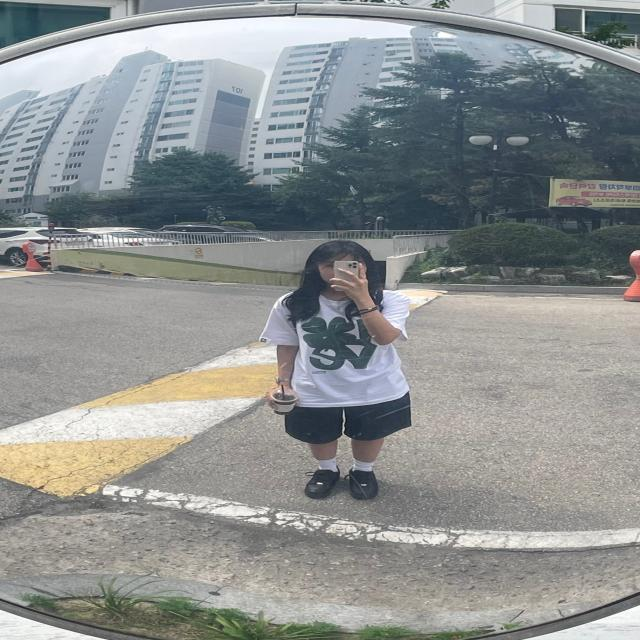shortpants: (284, 386, 414, 445)
shortsleeve: (261, 283, 412, 408)
